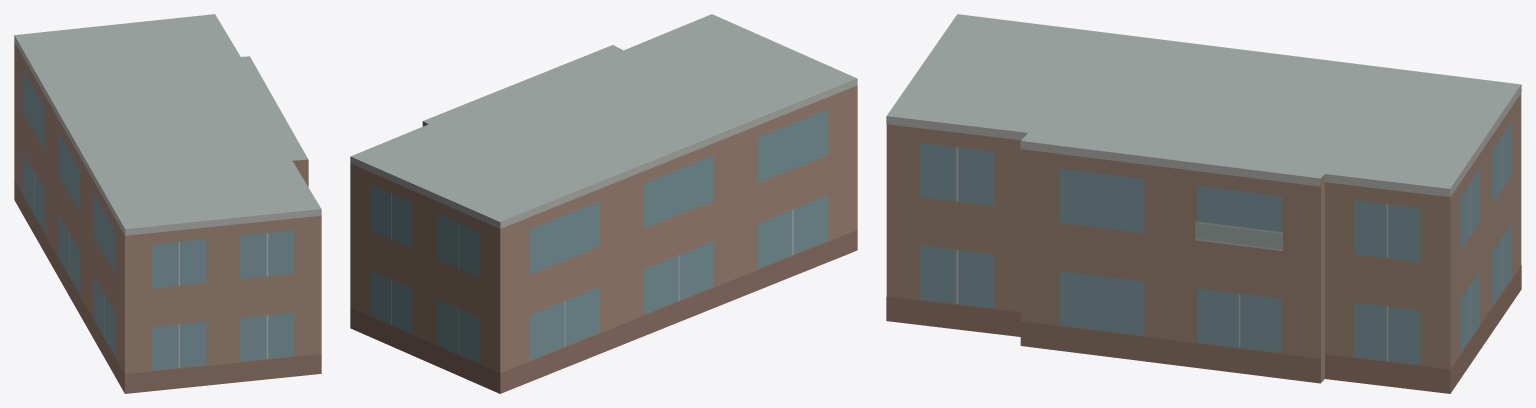
The model's file is survey-upis-32776227.glb.
The picture shows the model from 3 angles, left to right: view 1: azimuth 30°, elevation 25°; view 2: azimuth 150°, elevation 25°; view 3: azimuth 270°, elevation 25°; orthographic projection. The views are drawn at different scales.
Parts seen in each view (by area): view 1: survey-upis-32776227.tmp; view 2: survey-upis-32776227.tmp; view 3: survey-upis-32776227.tmp.
Boxes of the visible parts, x1,y1,x2,y2 form: survey-upis-32776227.tmp: [14, 14, 321, 393]; survey-upis-32776227.tmp: [350, 14, 857, 393]; survey-upis-32776227.tmp: [886, 14, 1521, 393].
Bounding box in the file's own units: 11.18 × 6.1 × 17.14.
